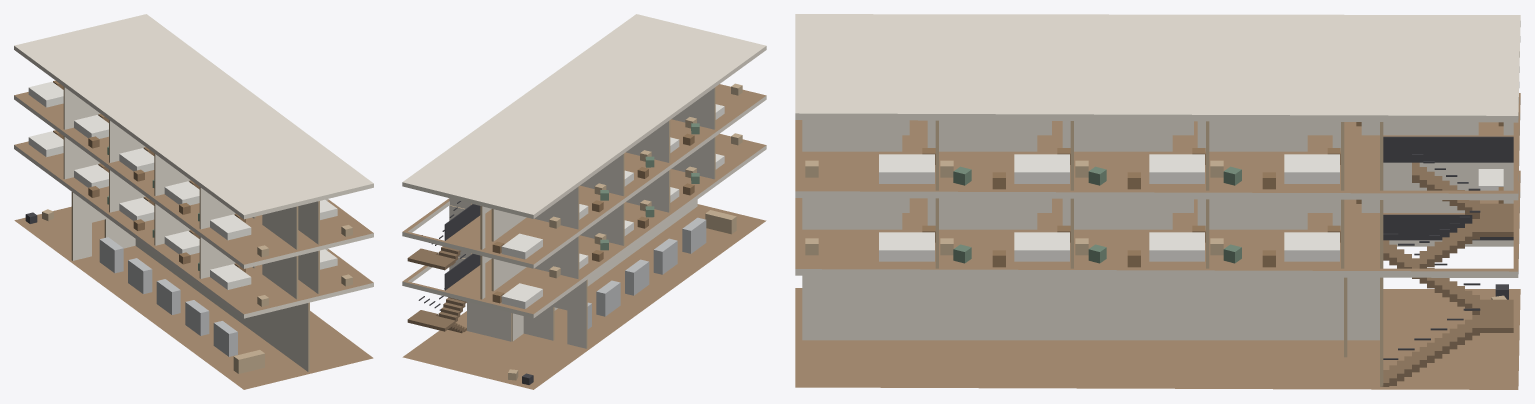
The model's file is interior.glb.
3 views of the same model, side by side, from view 1: azimuth 30°, elevation 25°; view 2: azimuth 150°, elevation 25°; view 3: azimuth 270°, elevation 25° (orthographic). The views are drawn at different scales.
Parts seen in each view (by area): view 1: slabs, partitions, coarse-s2, coarse-s1, coarse-s0; view 2: slabs, partitions, coarse-s0, stair, coarse-s2, coarse-s1; view 3: slabs, partitions, stair, coarse-s1, coarse-s2.
Part boxes in pixels (bbox=[...]): slabs: bbox=[14, 14, 373, 389]; partitions: bbox=[63, 87, 328, 371]; coarse-s2: bbox=[28, 80, 352, 257]; coarse-s1: bbox=[28, 130, 352, 306]; coarse-s0: bbox=[25, 209, 264, 373]; slabs: bbox=[402, 14, 766, 389]; partitions: bbox=[449, 87, 715, 348]; coarse-s0: bbox=[508, 210, 736, 384]; stair: bbox=[407, 201, 480, 333]; coarse-s2: bbox=[492, 83, 742, 259]; coarse-s1: bbox=[492, 133, 742, 308]; slabs: bbox=[795, 14, 1520, 389]; partitions: bbox=[802, 120, 1513, 386]; stair: bbox=[1382, 136, 1513, 386]; coarse-s1: bbox=[805, 169, 1503, 267]; coarse-s2: bbox=[805, 122, 1503, 189].
Bounding box in the file's own units: 8.62 × 10.82 × 25.9.
